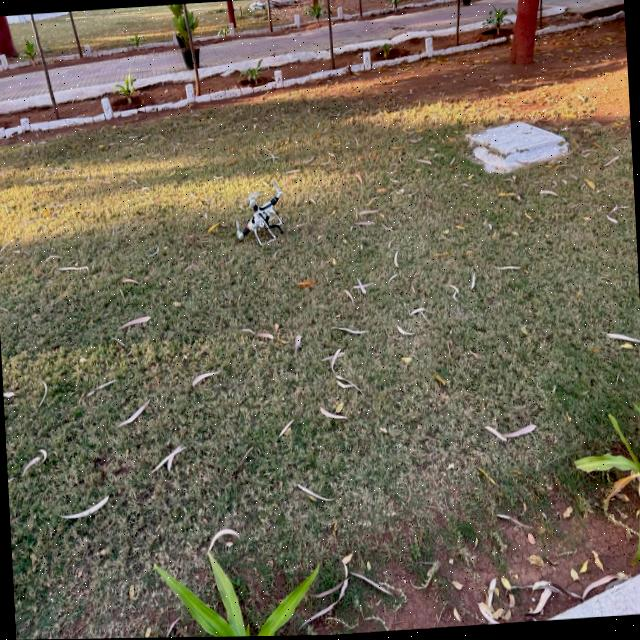drone: (218, 182, 294, 256)
